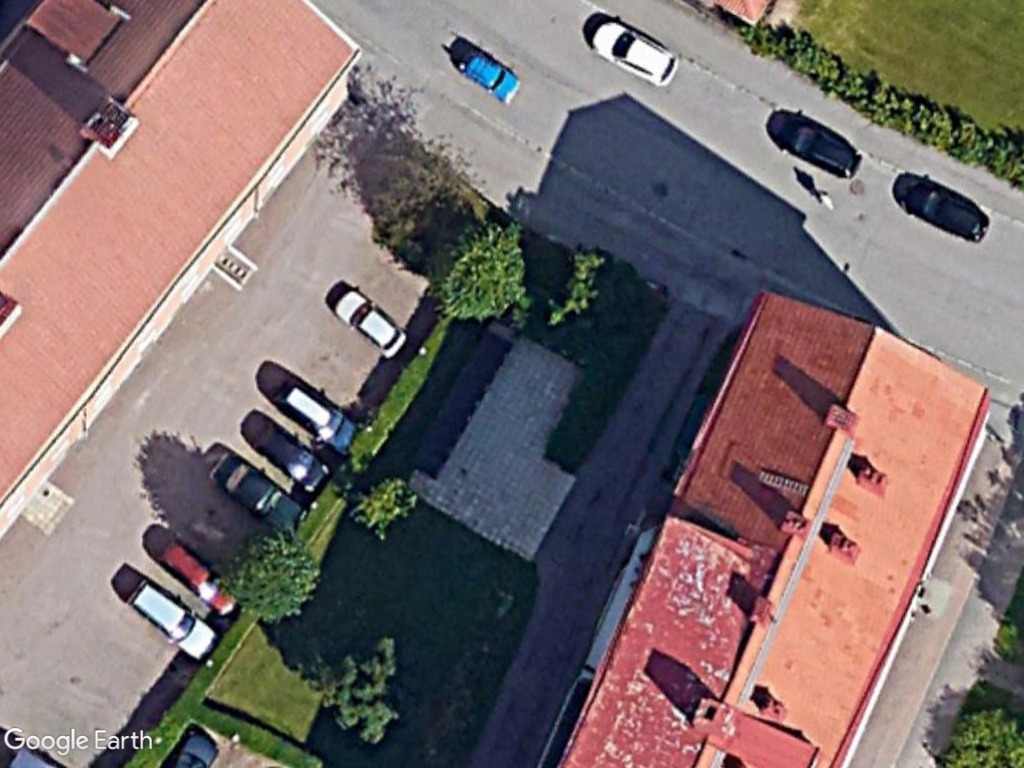car: (207, 448, 311, 548), (120, 574, 217, 672), (265, 372, 364, 457), (893, 170, 991, 253), (585, 17, 686, 94), (331, 282, 413, 363), (775, 111, 866, 183), (453, 45, 526, 110)
